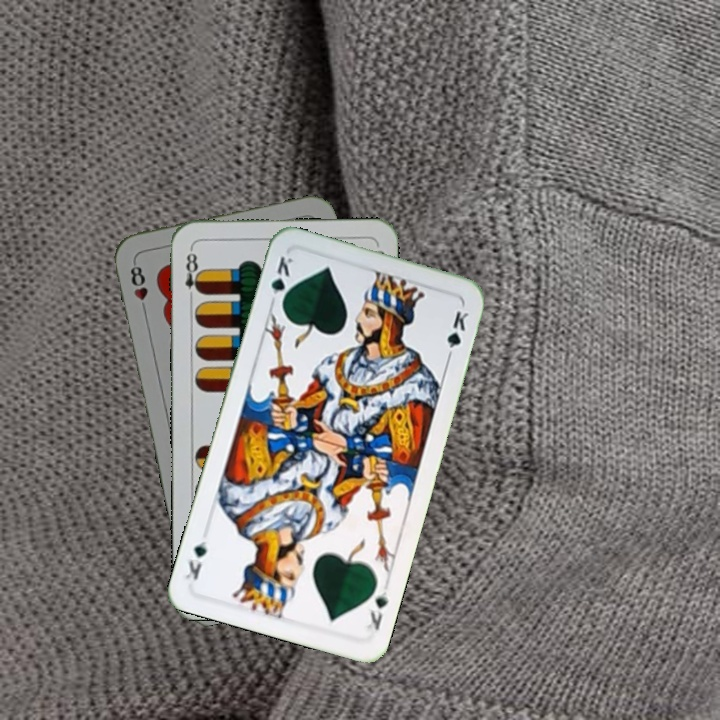E8: (181, 244, 204, 303)
GK: (266, 252, 297, 310), (362, 578, 391, 634)
H8: (126, 257, 151, 316)
